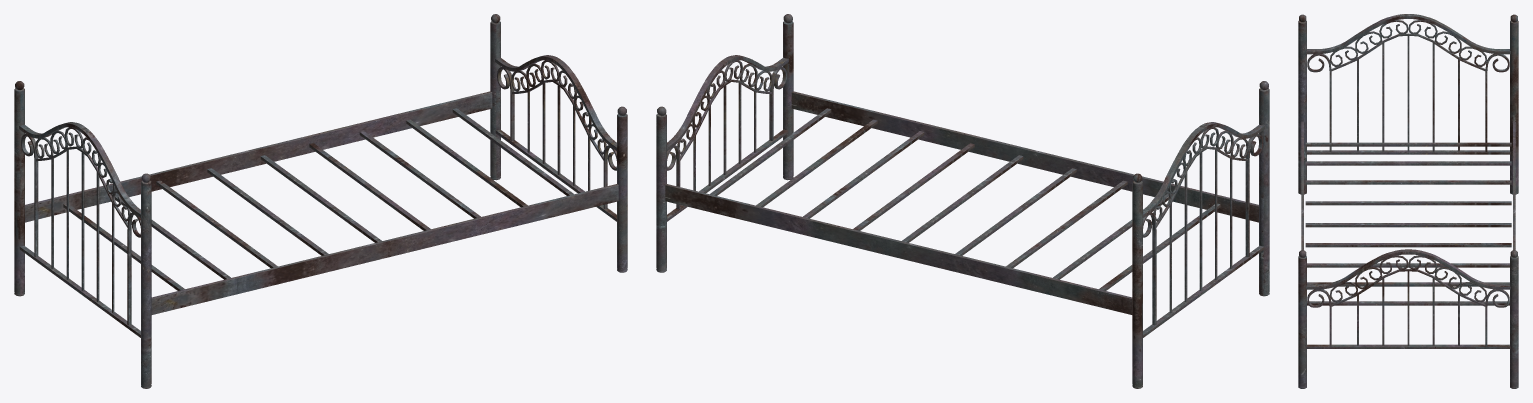
Rendered from SingleB.fbx.
3 renders of one model, left to right at view 1: azimuth 30°, elevation 25°; view 2: azimuth 150°, elevation 25°; view 3: azimuth 270°, elevation 25°, orthographic. The views are drawn at different scales.
Parts seen in each view (by area): view 1: SM_BedSingleB_LOD0; view 2: SM_BedSingleB_LOD0; view 3: SM_BedSingleB_LOD0.
Part boxes in pixels (x1,y1,x2,y2): SM_BedSingleB_LOD0: (14,14,627,388); SM_BedSingleB_LOD0: (656,14,1269,388); SM_BedSingleB_LOD0: (1298,14,1518,388).
Bounding box in the file's own units: 206 × 86.55 × 96.9.
